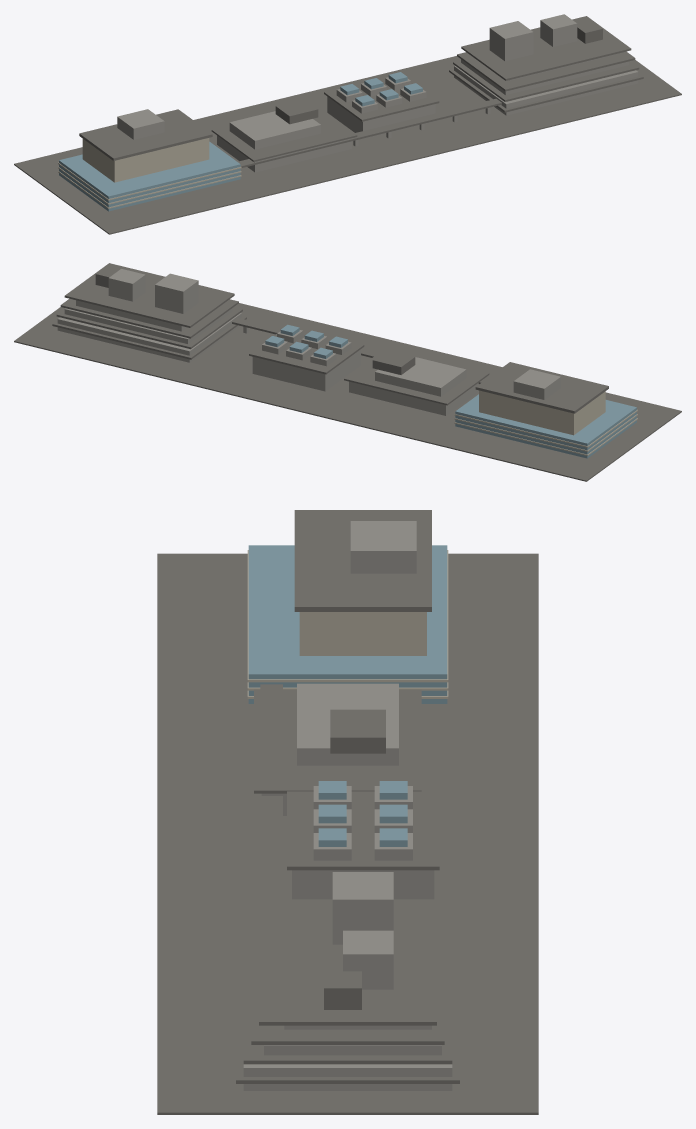
The model's file is southbank_centre.glb.
3 views of the same model, one above another, from view 1: azimuth 30°, elevation 25°; view 2: azimuth 150°, elevation 25°; view 3: azimuth 270°, elevation 25° (orthographic). The views are drawn at different scales.
Parts seen in each view (by area): view 1: southbank_centre; view 2: southbank_centre; view 3: southbank_centre.
Part boxes in pixels (x1,y1,x2,y2): southbank_centre: (14,14,681,234); southbank_centre: (14,263,681,481); southbank_centre: (157,510,538,1114).
Bounding box in the file's own units: 520 × 49 × 150.
